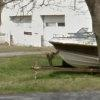Boat: (40, 30, 100, 73)
